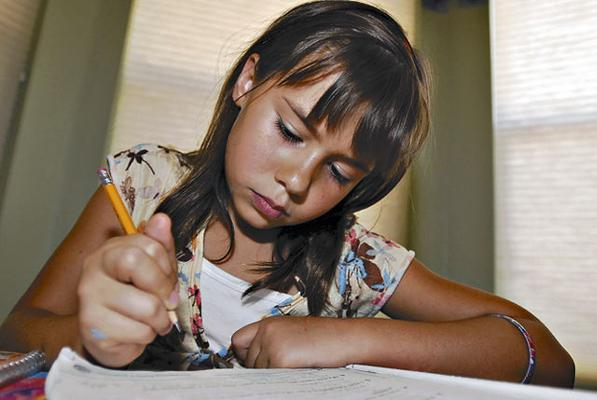person: (4, 4, 576, 393)
